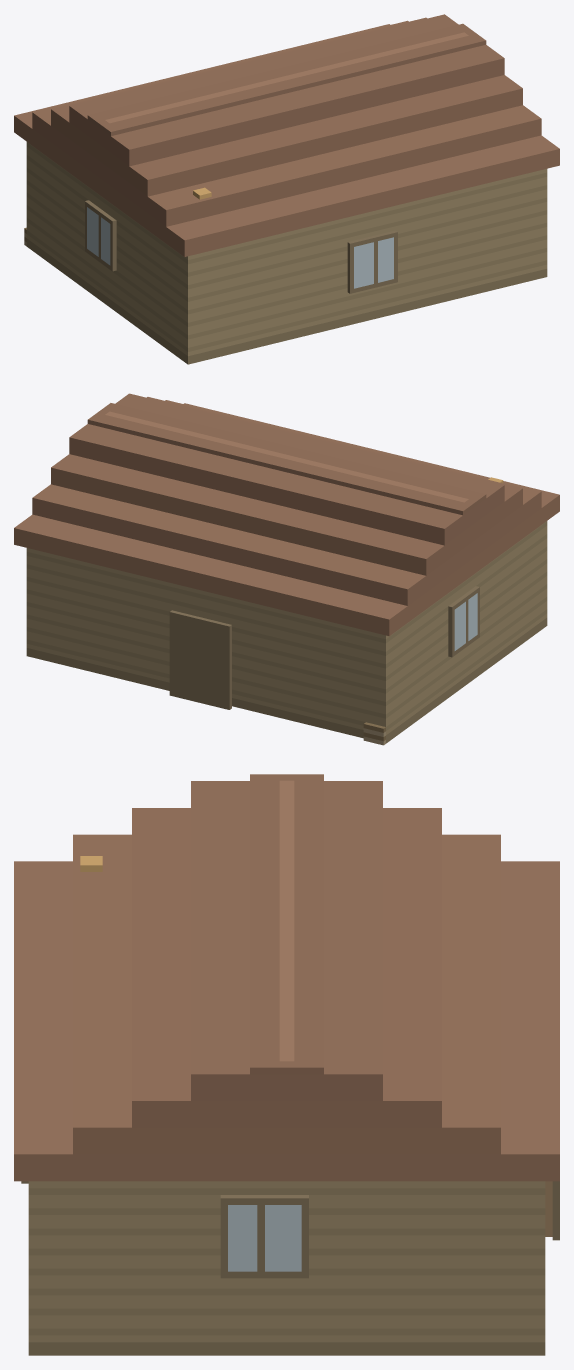
File: panaderia_01.glb
3 renders of one model, top to bottom at view 1: azimuth 30°, elevation 25°; view 2: azimuth 150°, elevation 25°; view 3: azimuth 270°, elevation 25°, orthographic. The views are drawn at different scales.
Visible parts, largest first — view 1: panaderia_01; view 2: panaderia_01; view 3: panaderia_01.
Part boxes in pixels (x1,y1,x2,y2): panaderia_01: [14, 14, 559, 364]; panaderia_01: [14, 393, 559, 745]; panaderia_01: [14, 774, 559, 1355].
Size of the model in its own units: 9.4 by 4.4 by 7.4.
